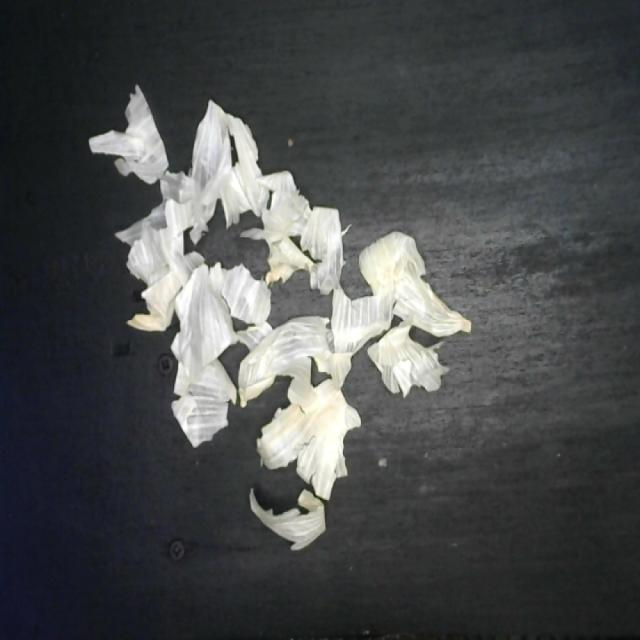biodegradable: (82, 78, 478, 562)
